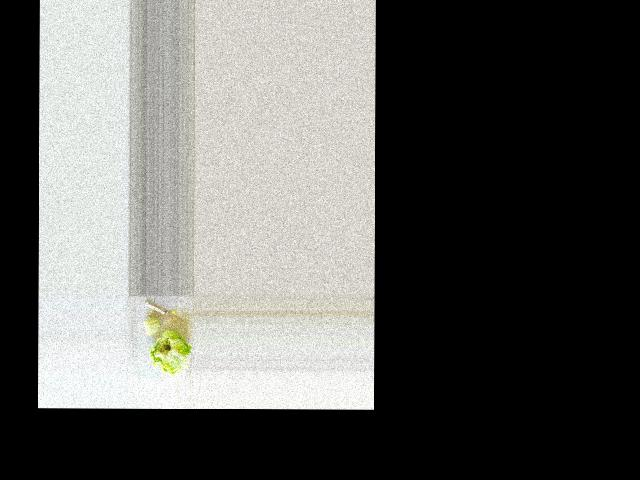lettuce: (149, 334, 189, 378)
